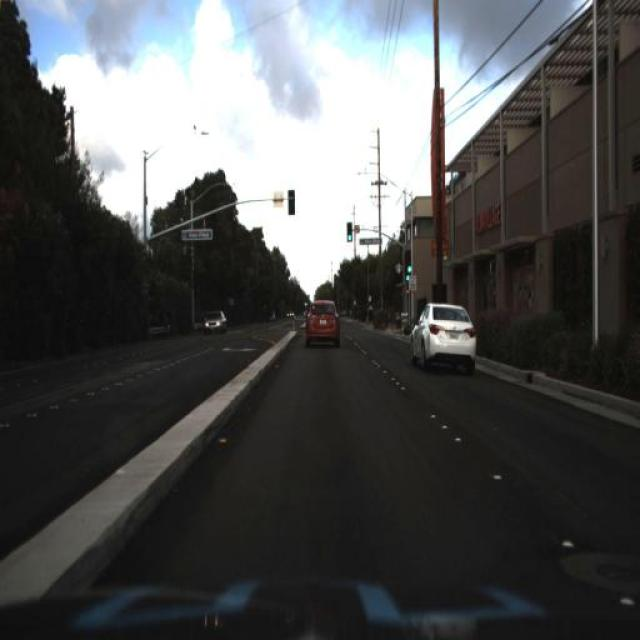car: (411, 299, 478, 371), (294, 290, 352, 354), (204, 302, 231, 338), (200, 310, 228, 340)
trafficLight-GreenLeft: (340, 219, 356, 249), (405, 248, 414, 287), (344, 218, 354, 244), (404, 270, 410, 288), (406, 260, 412, 276)
